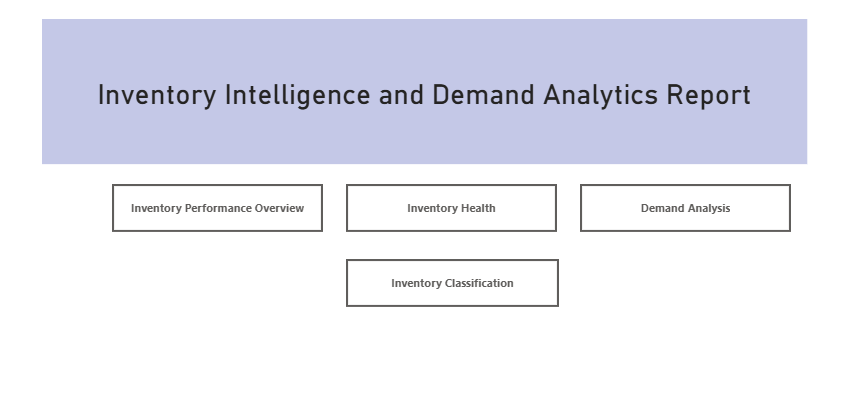

The page's visual inventory and layout, read from the dashboard file:
{"tool":"powerbi","page":{"name":"Page 1","canvas":[1280,720],"ordinal":0},"visuals":[{"type":"card","fields":{"Values":["Table 1.Tittle"]},"box":[85,70.6,1101.6,208.8],"z":0},{"type":"actionButton","box":[185.8,308.2,303.8,69.1],"z":1000},{"type":"actionButton","box":[522.7,308.2,303.8,69.1],"z":2000},{"type":"actionButton","box":[859.7,308.2,303.8,69.1],"z":3000},{"type":"actionButton","box":[522.7,416.2,306.7,69.1],"z":4000}]}

Visuals, with their boxes on the page's 1280x720 design canvas (x1, y1, x2, y2). These are canvas units, not pixel positions in the 850x396 screenshot, which may show the page scaled, cropped or inside an application window:
card - Table 1.Tittle: {"left": 85, "top": 71, "right": 1187, "bottom": 279}
actionButton: {"left": 186, "top": 308, "right": 490, "bottom": 377}
actionButton: {"left": 523, "top": 308, "right": 826, "bottom": 377}
actionButton: {"left": 860, "top": 308, "right": 1164, "bottom": 377}
actionButton: {"left": 523, "top": 416, "right": 829, "bottom": 485}
